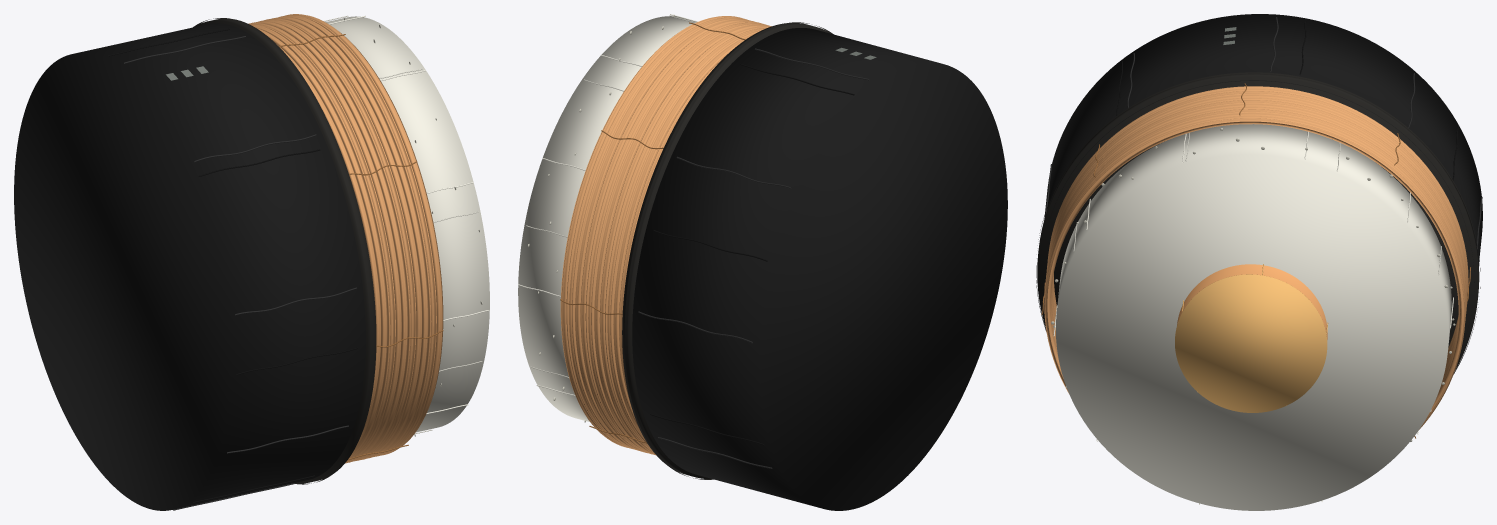
The model's file is rf-hca158-macro.glb.
3 views of the same model, side by side, from view 1: azimuth 30°, elevation 25°; view 2: azimuth 150°, elevation 25°; view 3: azimuth 270°, elevation 25° (orthographic). The views are drawn at different scales.
Parts seen in each view (by area): view 1: macro hardline jacket body, annular corrugated solid shield, macro foam dielectric exposed core, hardline jacket cut wall, rounded jacket cut lip; view 2: macro hardline jacket body, annular corrugated solid shield, macro foam dielectric exposed core, hardline jacket cut wall, rounded jacket cut lip; view 3: macro foam dielectric exposed core, macro hardline jacket body, annular corrugated solid shield, polished conductor cut face glow, hardline jacket cut wall, polished solid center conductor, rounded jacket cut lip.
Part boxes in pixels (x1,y1,x2,y2): macro hardline jacket body: (14, 23, 365, 510); annular corrugated solid shield: (248, 14, 443, 463); macro foam dielectric exposed core: (325, 16, 489, 432); hardline jacket cut wall: (194, 18, 376, 483); rounded jacket cut lip: (193, 18, 373, 484); macro hardline jacket body: (632, 28, 1007, 510); annular corrugated solid shield: (560, 16, 771, 455); macro foam dielectric exposed core: (518, 16, 696, 421); hardline jacket cut wall: (622, 23, 831, 479); rounded jacket cut lip: (624, 22, 833, 479); macro foam dielectric exposed core: (1056, 124, 1451, 510); macro hardline jacket body: (1044, 14, 1482, 263); annular corrugated solid shield: (1044, 86, 1468, 429); polished conductor cut face glow: (1175, 274, 1327, 412); hardline jacket cut wall: (1037, 73, 1479, 369); polished solid center conductor: (1177, 264, 1327, 339); rounded jacket cut lip: (1036, 72, 1480, 373).
Size of the model in its own units: 6.69 by 9.16 by 9.21.
